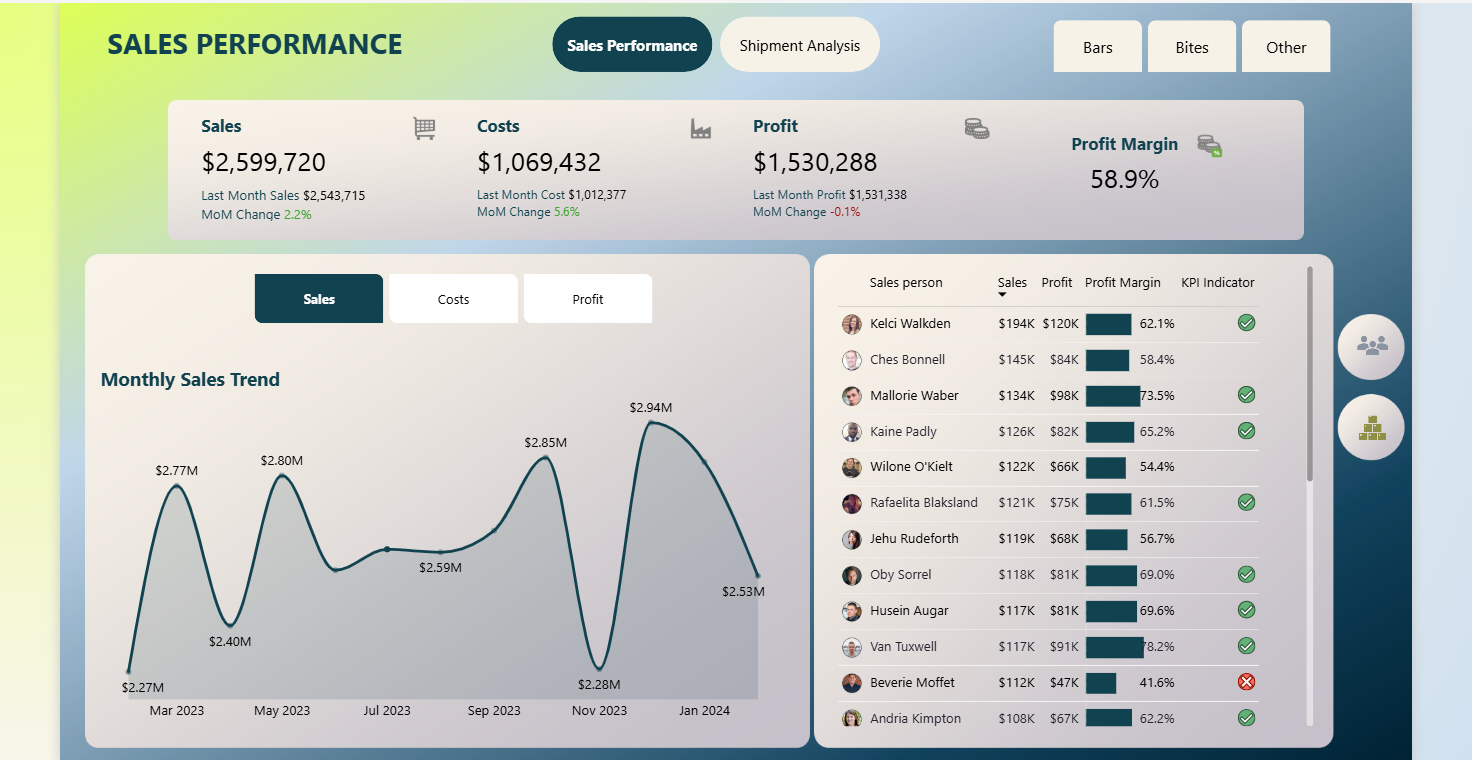

Layout of this report page (visuals, bound fields, positions):
{"tool":"powerbi","page":{"name":"Sales Performance","canvas":[1920,1080],"ordinal":0},"visuals":[{"type":"cardVisual","fields":{"Data":["_Measures.Total Sales","_Measures.Total Costs","_Measures.Total Profit","_Measures.Profit Margin","_Measures.Profit Margin"]},"box":[155,112.5,1607.5,232.5],"z":0},{"type":"advancedSlicerVisual","fields":{"Values":["Measure Selector.Measure Selector"]},"box":[272.5,380,575,80],"z":1000},{"type":"lineChart","fields":{"Y":["_Measures.Total Sales"],"Category":["calendar.Start of Month"]},"box":[28.4,487.1,1028.6,565.1],"z":2000},{"type":"tableEx","title":"People Details","fields":{"Values":["people.Picture","people.Sales person","_Measures.Total Sales","_Measures.Total Profit","_Measures.Profit Margin","_Measures.Profit Target Indicator"]},"box":[1075,345,735,712.5],"z":3000},{"type":"image","title":"People Icon","box":[1812.5,440,107.5,92.5],"z":5000},{"type":"image","title":"Product Icon","box":[1811.2,558,106.4,92.2],"z":6000},{"type":"textbox","title":"SALES PERFORMANCE","box":[62.5,25,472.5,67.5],"z":7000},{"type":"pageNavigator","box":[695.2,14.2,477.6,89.9],"z":8000},{"type":"advancedSlicerVisual","fields":{"Values":["products.Category"]},"box":[1407.5,18.8,405.8,84.5],"z":9000}]}

Visuals, with their boxes on the page's 1920x1080 design canvas (x1, y1, x2, y2). These are canvas units, not pixel positions in the 1472x760 screenshot, which may show the page scaled, cropped or inside an application window:
cardVisual - _Measures.Total Sales x _Measures.Total Costs: {"x1": 155, "y1": 112, "x2": 1762, "y2": 345}
advancedSlicerVisual - Measure Selector.Measure Selector: {"x1": 272, "y1": 380, "x2": 848, "y2": 460}
lineChart - _Measures.Total Sales x calendar.Start of Month: {"x1": 28, "y1": 487, "x2": 1057, "y2": 1052}
"People Details" tableEx: {"x1": 1075, "y1": 345, "x2": 1810, "y2": 1058}
"People Icon" image: {"x1": 1812, "y1": 440, "x2": 1920, "y2": 532}
"Product Icon" image: {"x1": 1811, "y1": 558, "x2": 1918, "y2": 650}
"SALES PERFORMANCE" textbox: {"x1": 62, "y1": 25, "x2": 535, "y2": 92}
pageNavigator: {"x1": 695, "y1": 14, "x2": 1173, "y2": 104}
advancedSlicerVisual - products.Category: {"x1": 1408, "y1": 19, "x2": 1813, "y2": 103}
